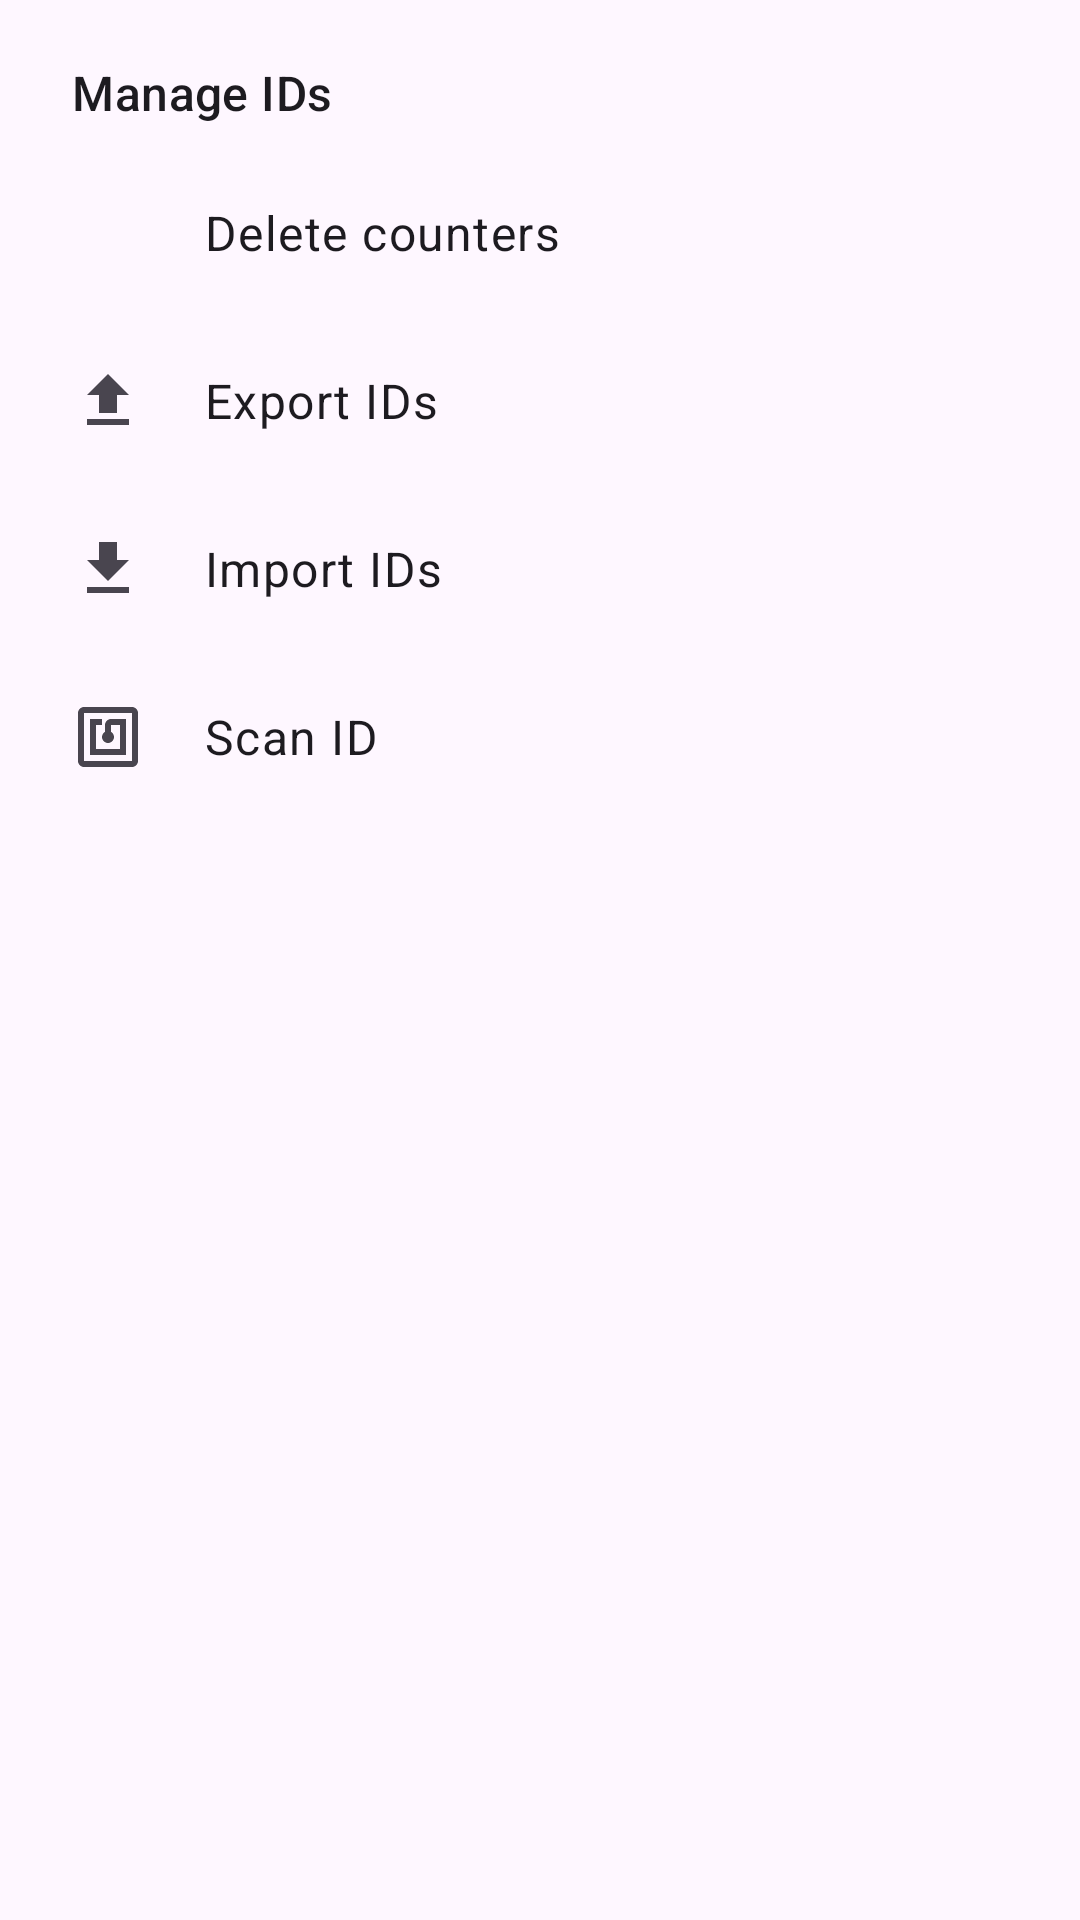

Screen size 1080 x 1920. Icon name, then its box in pixels as (x1, y1, x2, y2):
file export: (87, 374, 129, 425)
file import: (87, 542, 129, 593)
